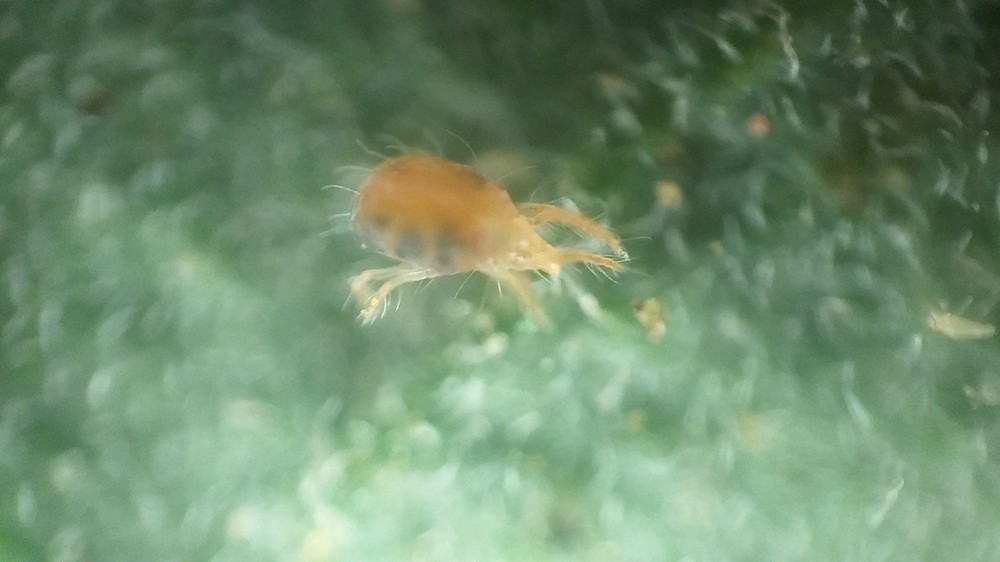Aracnido Rojo: (291, 122, 661, 348)
